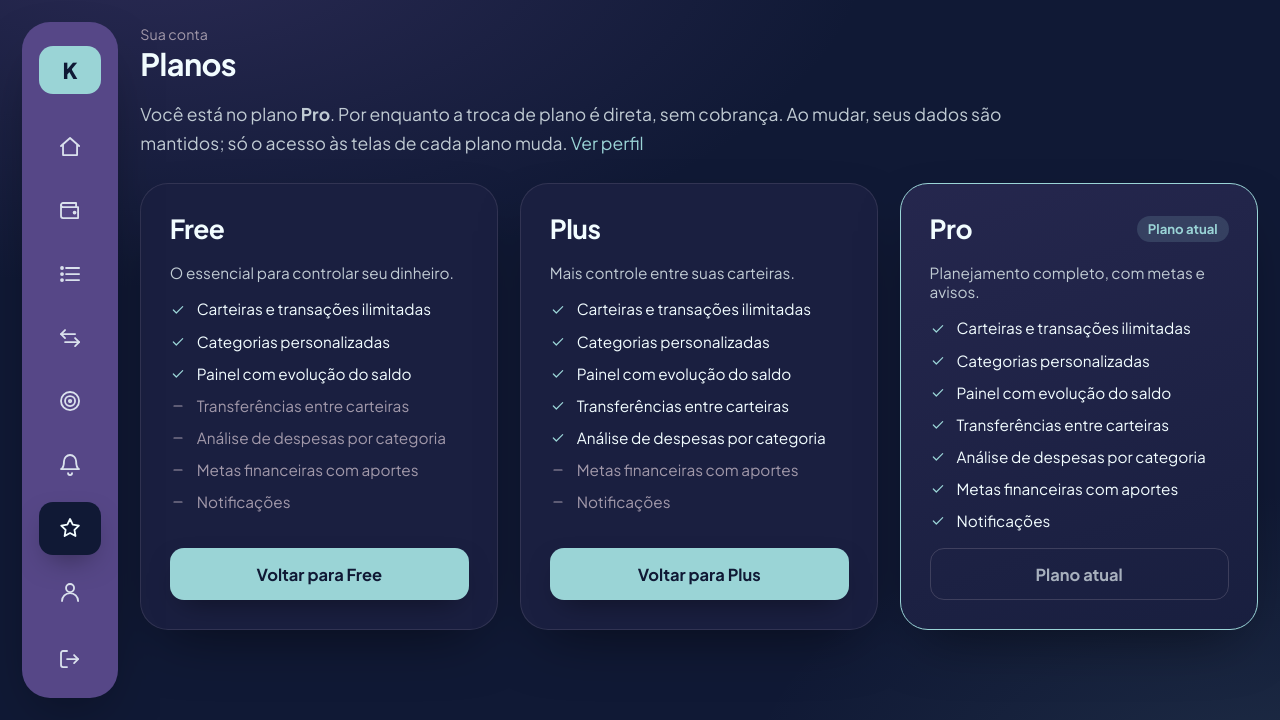
Scenario: planos › descer de plano: avisa o que se perde e que os dados continuam guardados
This screenshot has width=1280, height=720.
Step 1. Click the button "Voltar para Free" → (319,574), box [170,548,469,600]
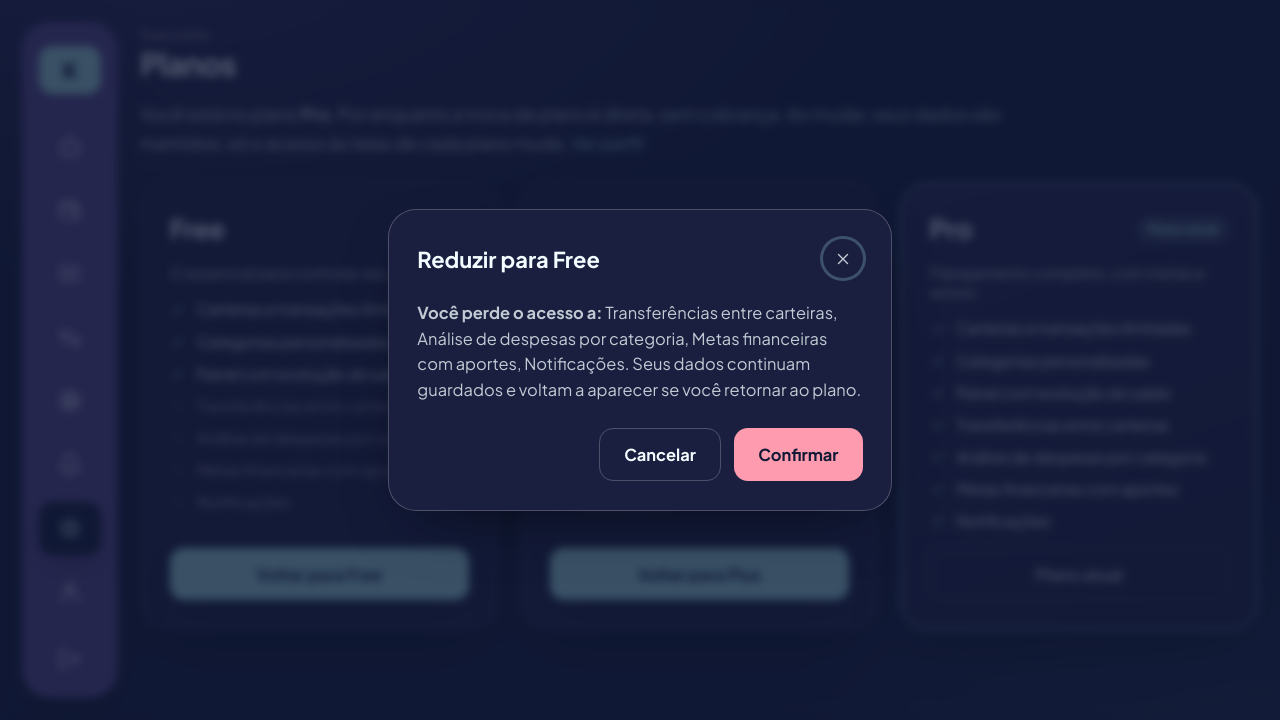
expect the text "Você perde o acesso a:" is shown: met, box [417,302,602,323]
expect the text "Seus dados continuam guardados e voltam a aparecer se você retornar ao plano." is shown: met, box [417,353,861,400]
